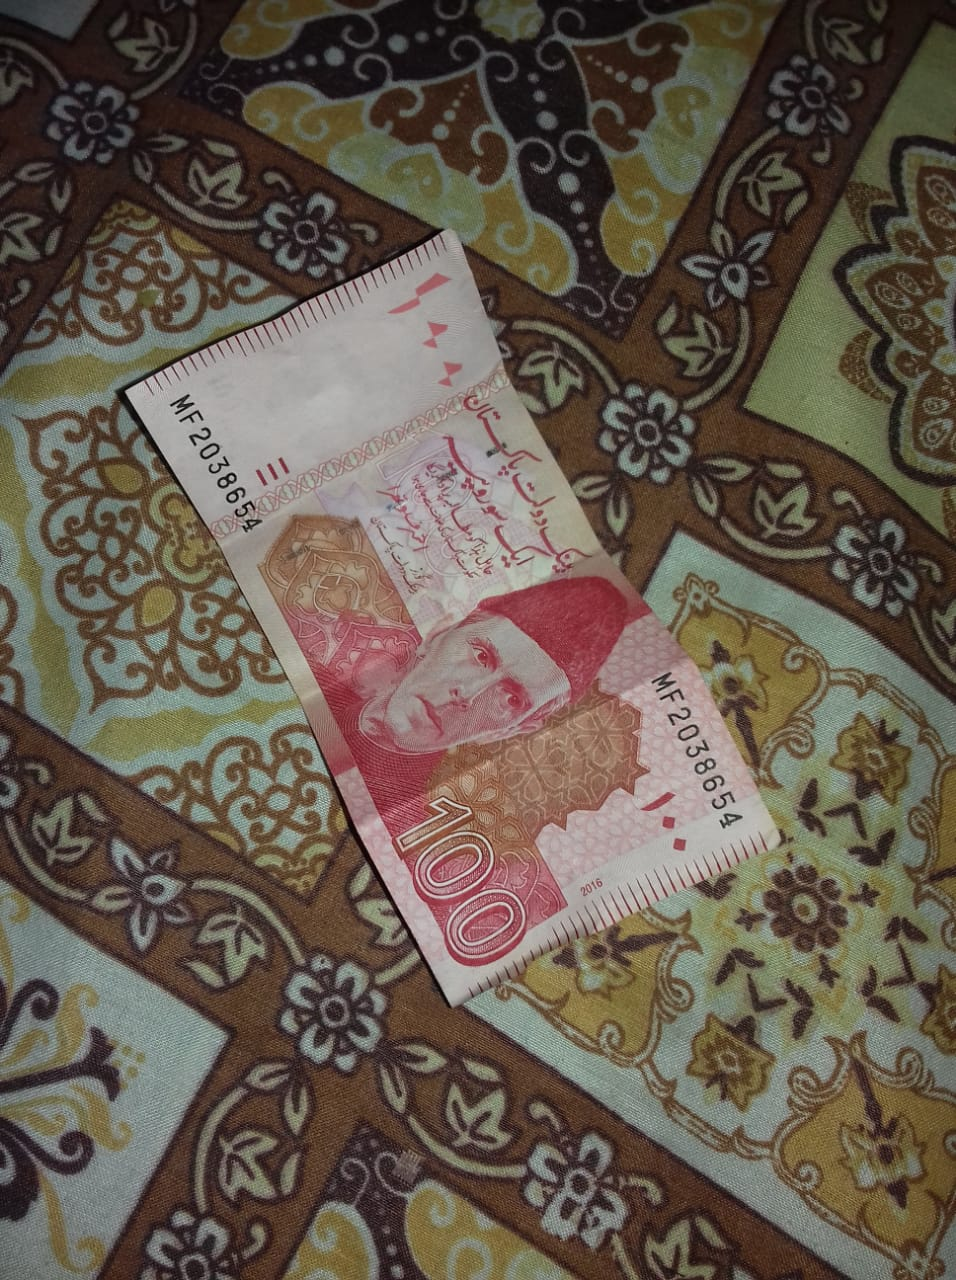100 rupee: (113, 215, 786, 1005)
